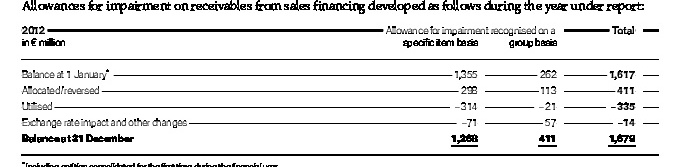table: (0, 0, 674, 167)
